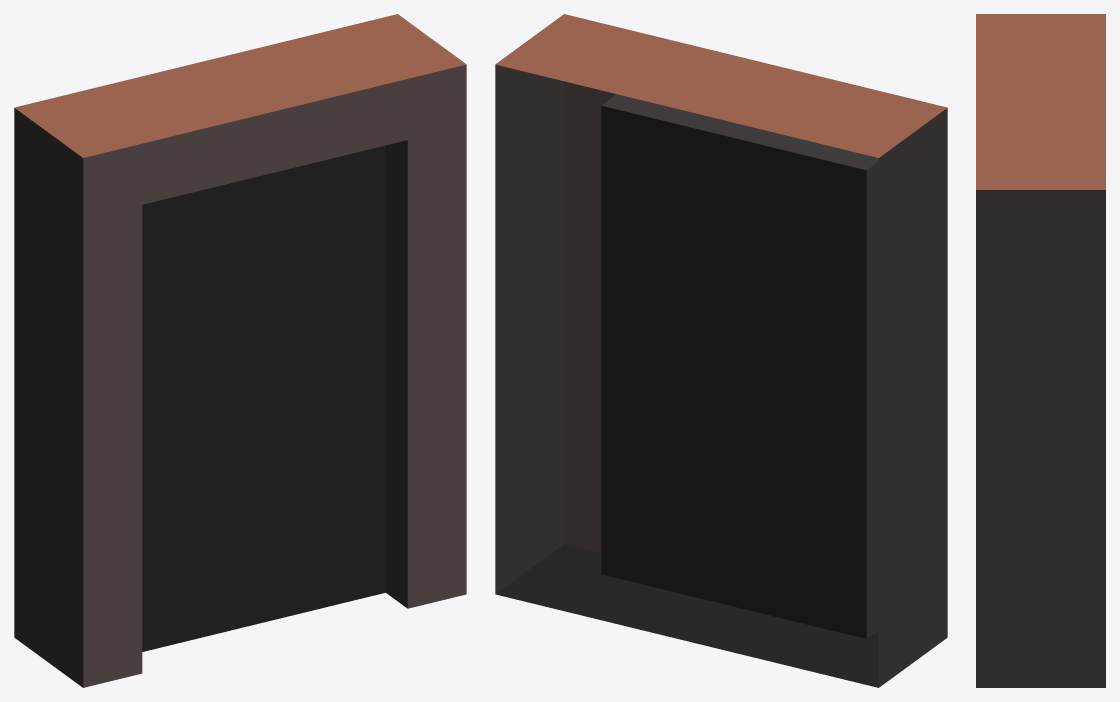
File: TB_D_Bd_Sqr_DoorFrame_B.FBX
3 views of the same model, side by side, from view 1: azimuth 30°, elevation 25°; view 2: azimuth 150°, elevation 25°; view 3: azimuth 270°, elevation 25° (orthographic). The views are drawn at different scales.
Visible parts, largest first — view 1: TB_D_Bd_Sqr_DoorFrame_B; view 2: TB_D_Bd_Sqr_DoorFrame_B; view 3: TB_D_Bd_Sqr_DoorFrame_B.
Boxes of the visible parts, box(x1,y1,x2,y2) form: TB_D_Bd_Sqr_DoorFrame_B: box(14, 14, 466, 687); TB_D_Bd_Sqr_DoorFrame_B: box(495, 14, 947, 687); TB_D_Bd_Sqr_DoorFrame_B: box(976, 14, 1105, 687).
Size of the model in its own units: 1.3 by 1.71 by 0.4047.
